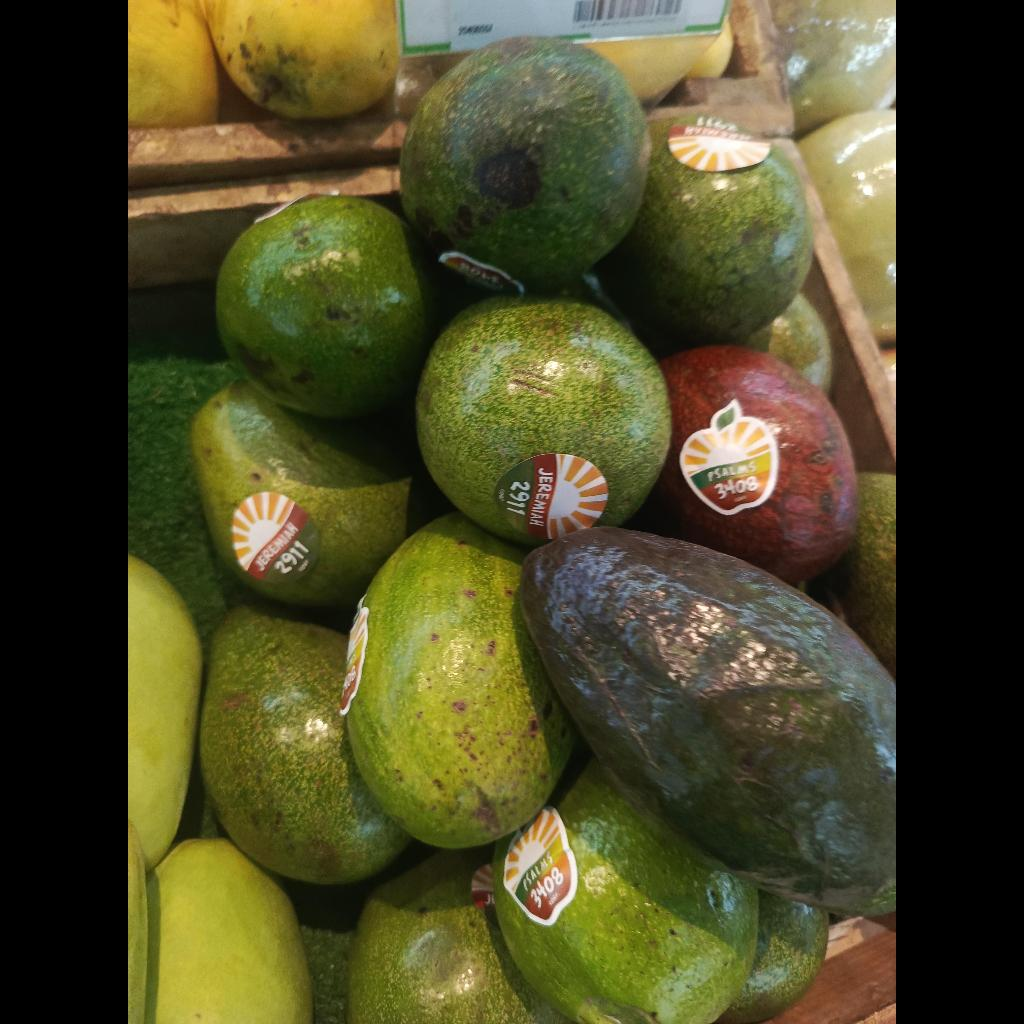antracnosis_fruto: (400, 37, 650, 291)
